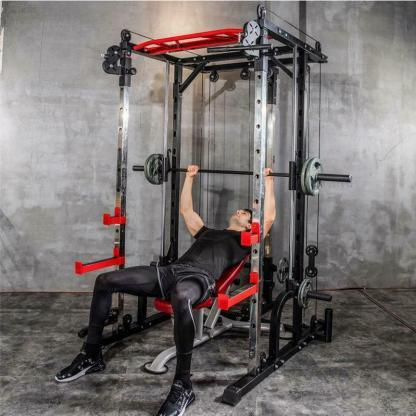smith machine: (99, 1, 335, 406)
